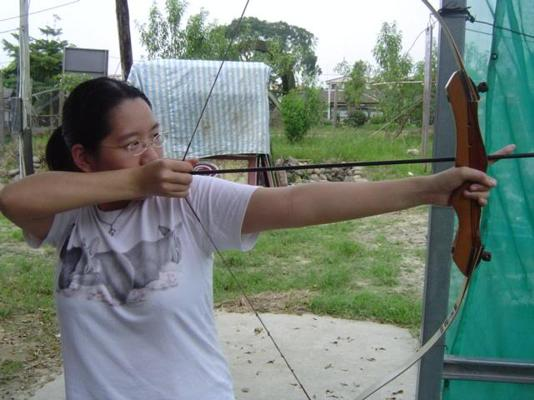person: (1, 79, 518, 400)
